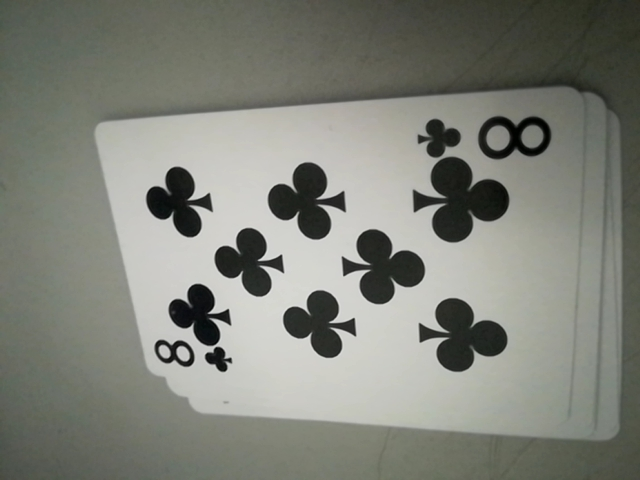mh 8: (415, 106, 556, 166), (150, 335, 229, 382)
